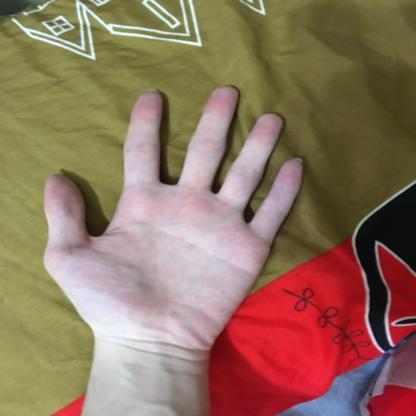bare_hand: (28, 75, 310, 368)
